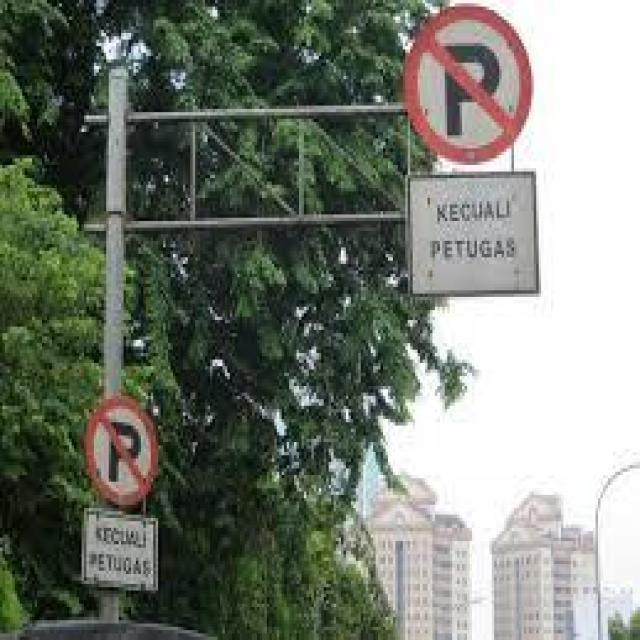traffic sign: (403, 3, 534, 162), (84, 399, 163, 504)
